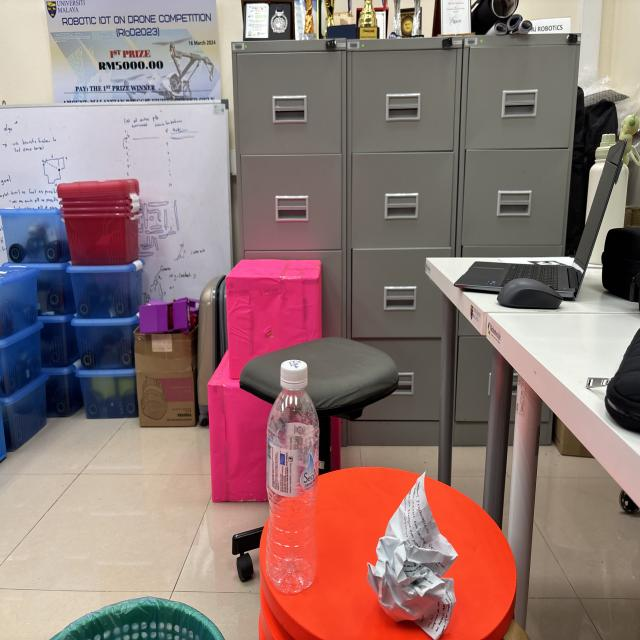crumpled_paper: (362, 463, 467, 640)
plastic_bottle: (257, 354, 329, 600)
